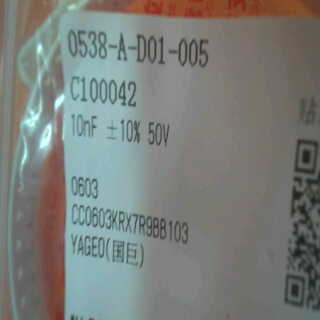10nF: (65, 113, 99, 137)
